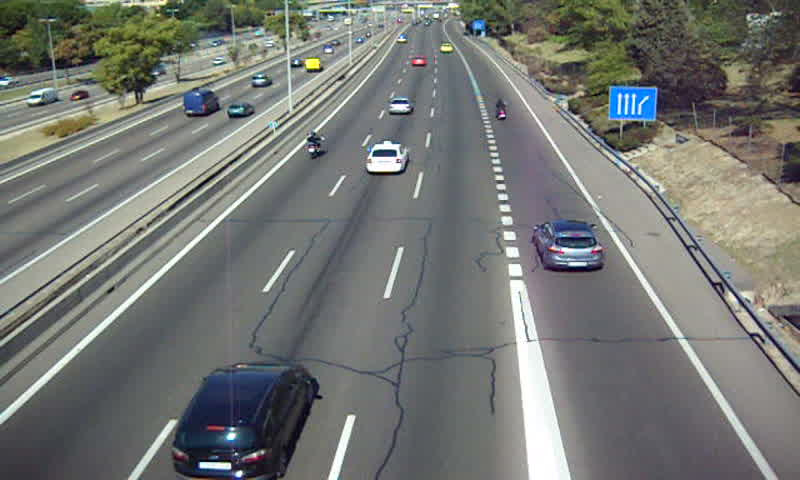car: (173, 363, 313, 480), (533, 220, 604, 270), (367, 142, 408, 173), (387, 96, 412, 114), (411, 55, 429, 68), (439, 42, 453, 53)
motorcycle: (304, 130, 324, 162), (494, 99, 509, 121)
